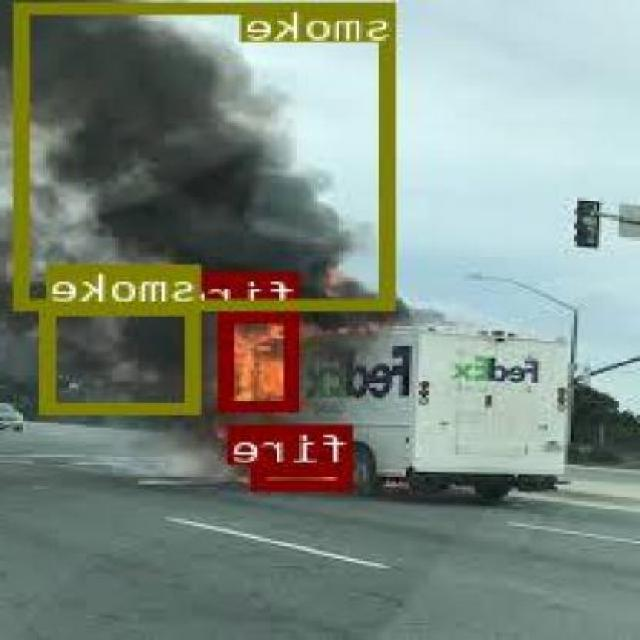smoke: (18, 2, 400, 307), (46, 303, 202, 412)
